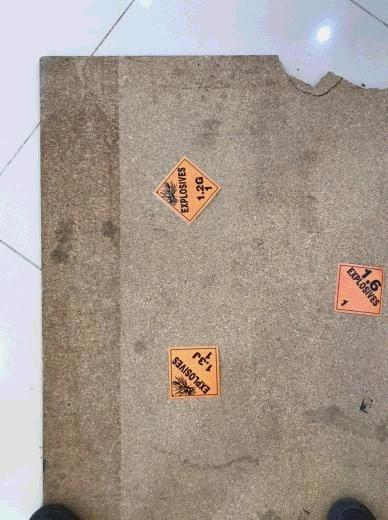explosive: (151, 154, 223, 228), (331, 262, 385, 321), (167, 347, 222, 398)
